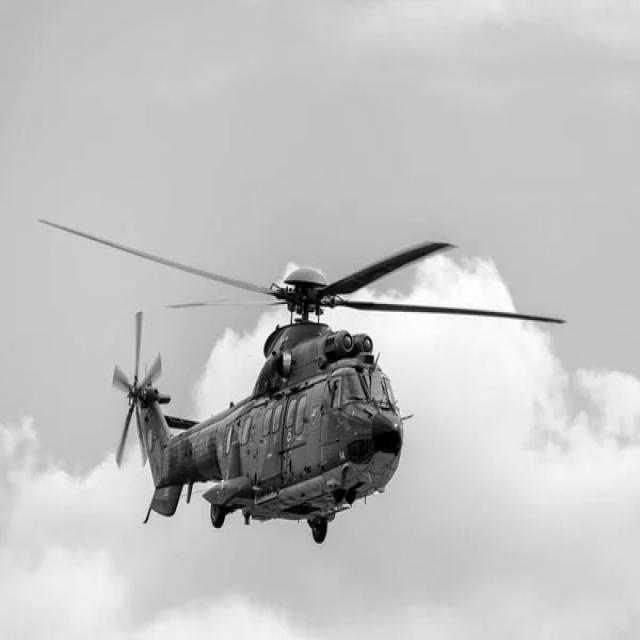Helicopter: (42, 222, 564, 544)
